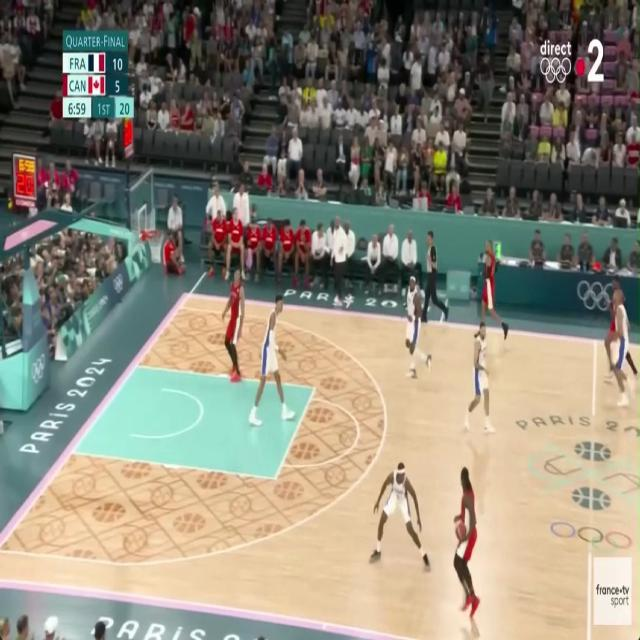ball_handler: (451, 466, 482, 622)
